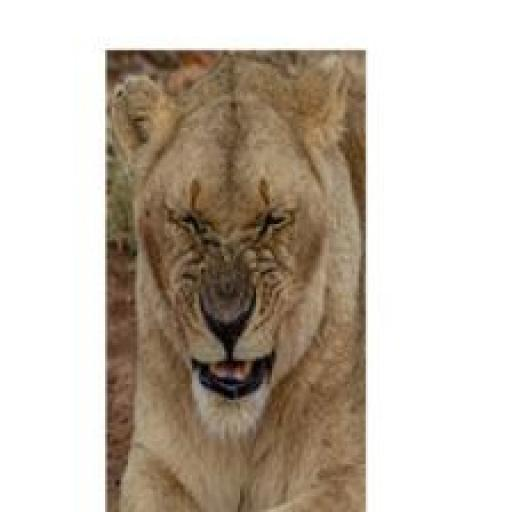lion: (75, 41, 374, 511)
